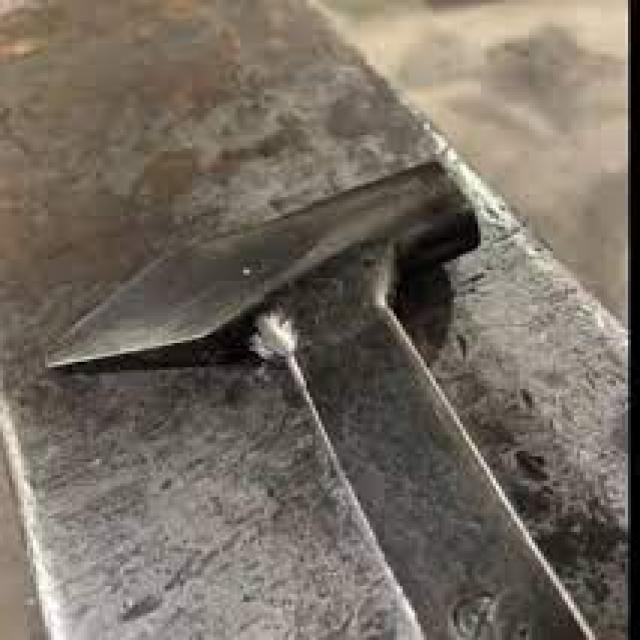hammer: (18, 156, 607, 640)
